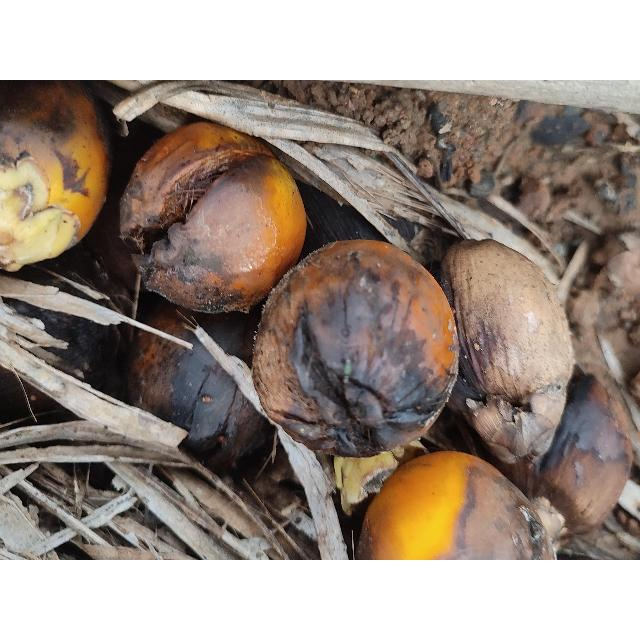damaged: (255, 242, 457, 446), (412, 226, 586, 456), (109, 294, 304, 472), (118, 127, 306, 311), (0, 80, 120, 274), (361, 454, 569, 556)
